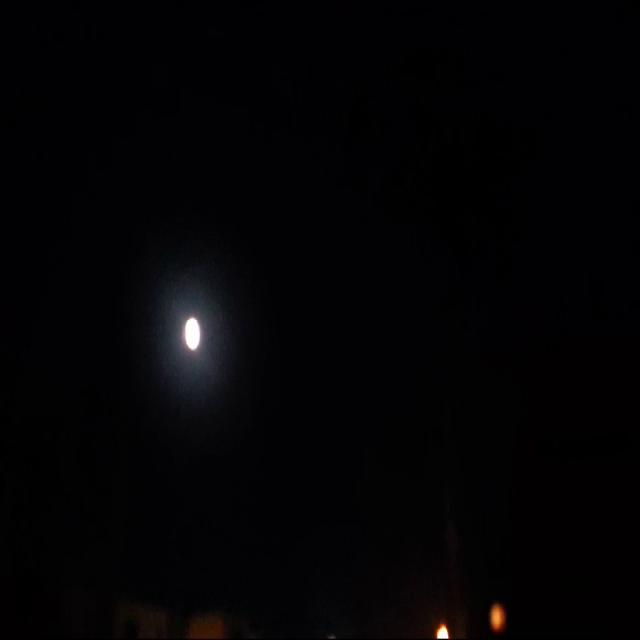moon: (184, 318, 204, 356)
